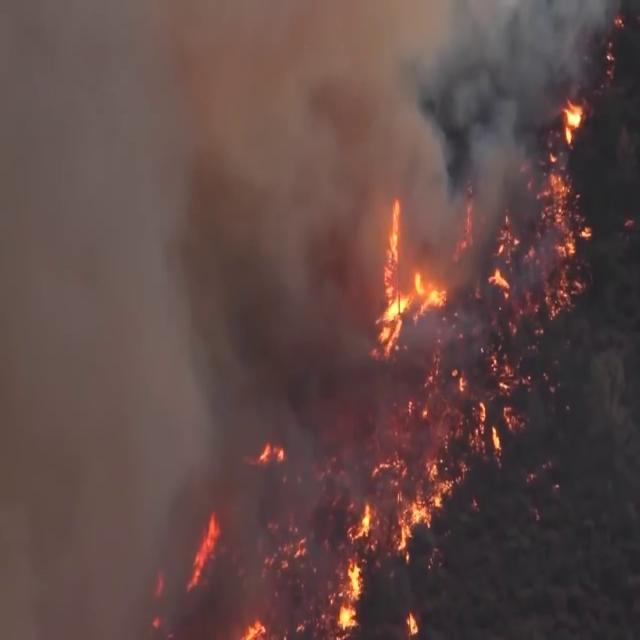Fire: (237, 88, 593, 640), (183, 508, 220, 593)
Smoke: (0, 1, 622, 640)
